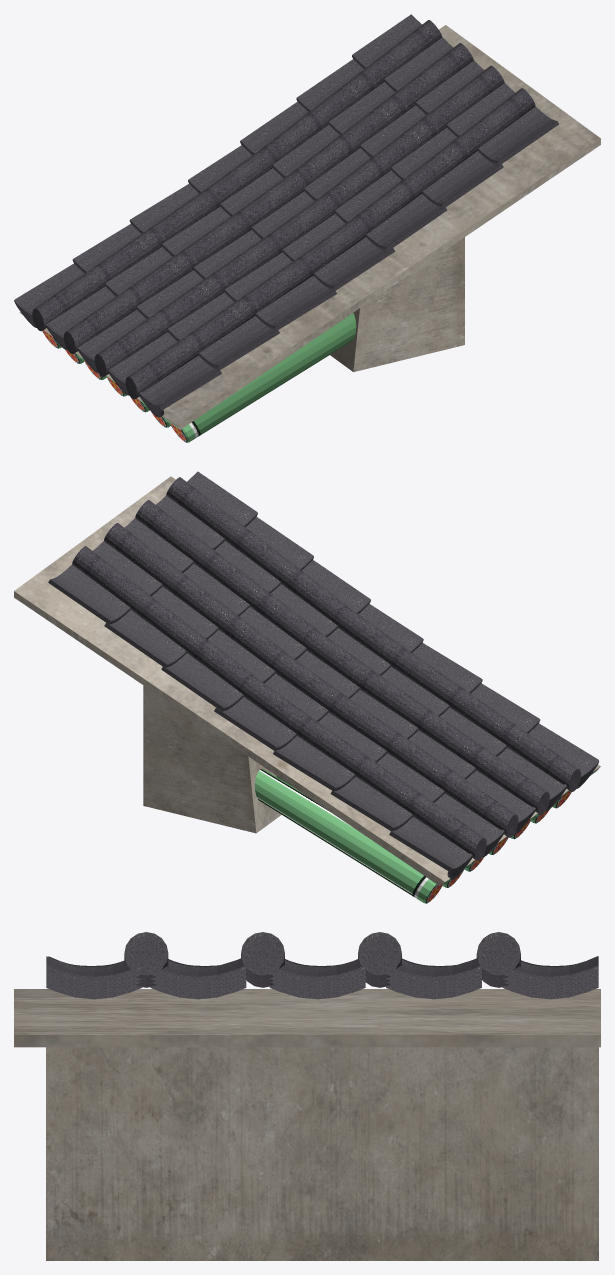
The model's file is SM_Roof_34.fbx.
3 views of the same model, one above another, from view 1: azimuth 30°, elevation 25°; view 2: azimuth 150°, elevation 25°; view 3: azimuth 270°, elevation 25° (orthographic). The views are drawn at different scales.
Visible parts, largest first — view 1: SM_Roof_34; view 2: SM_Roof_34; view 3: SM_Roof_34.
Part boxes in pixels (x1,y1,x2,y2): SM_Roof_34: [14, 14, 600, 442]; SM_Roof_34: [14, 471, 600, 903]; SM_Roof_34: [14, 932, 600, 1260].
Size of the model in its own units: 291 by 180 by 161.
4 materials, 4 textured.
